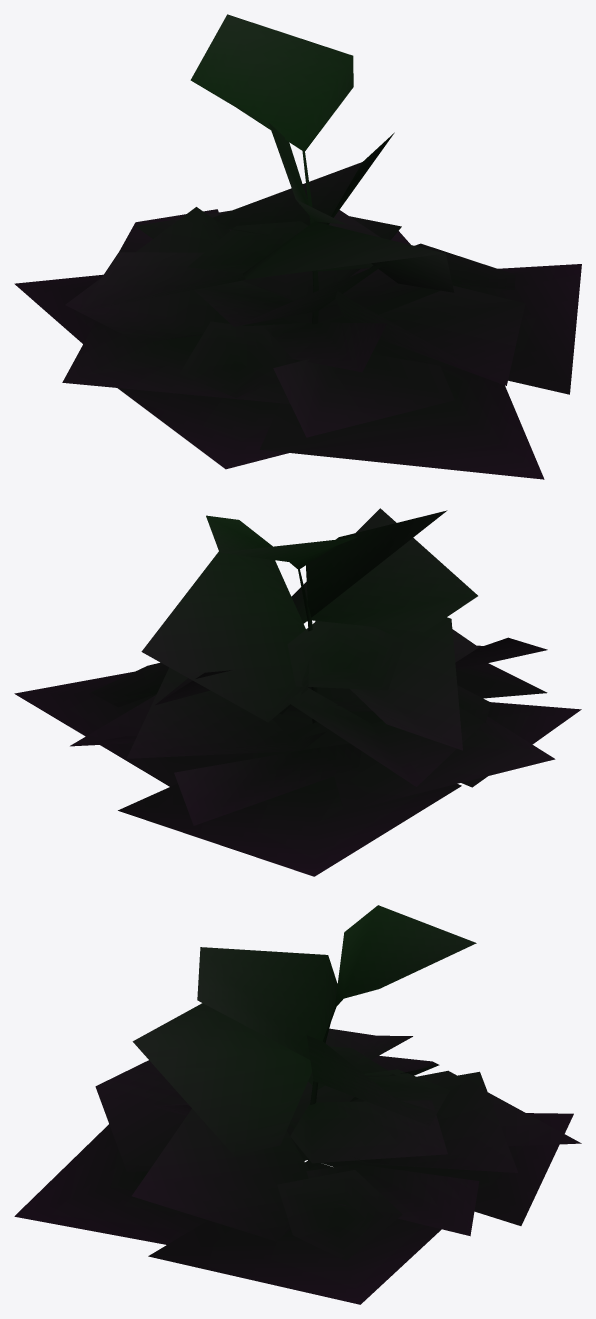
Rendered from TSI_Plant_16A.fbx.
3 renders of one model, top to bottom at view 1: azimuth 30°, elevation 25°; view 2: azimuth 150°, elevation 25°; view 3: azimuth 270°, elevation 25°, orthographic. The views are drawn at different scales.
Visible parts, largest first — view 1: TSI_Plant_16A_LOD0; view 2: TSI_Plant_16A_LOD0; view 3: TSI_Plant_16A_LOD0.
Part boxes in pixels (x1,y1,x2,y2): TSI_Plant_16A_LOD0: (14, 14, 581, 479); TSI_Plant_16A_LOD0: (14, 508, 581, 876); TSI_Plant_16A_LOD0: (14, 905, 581, 1304).
Bounding box in the file's own units: 104 × 55.98 × 105.
